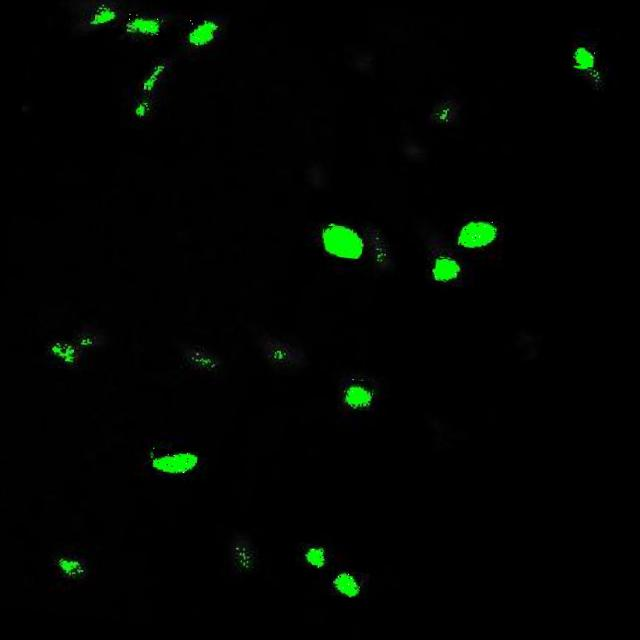Cell: (320, 223, 363, 259), (148, 446, 196, 474), (339, 376, 373, 411), (458, 218, 494, 245), (124, 12, 161, 38), (184, 14, 214, 46), (331, 568, 361, 598), (431, 255, 460, 282), (302, 542, 328, 569), (570, 46, 596, 66)
